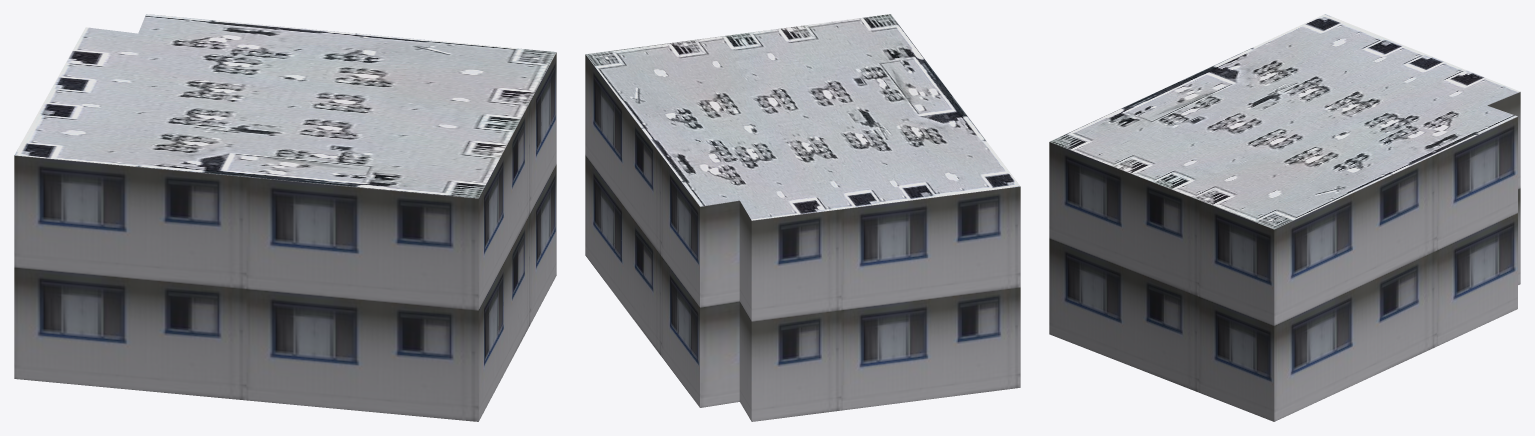
Rendered from ResTex__1649.fbx.
3 views of the same model, side by side, from view 1: azimuth 30°, elevation 25°; view 2: azimuth 150°, elevation 25°; view 3: azimuth 270°, elevation 25° (orthographic). The views are drawn at different scales.
Visible parts, largest first — view 1: CityEngineMaterial_9_m, CityEngineMaterial_4_m; view 2: CityEngineMaterial_9_m, CityEngineMaterial_4_m; view 3: CityEngineMaterial_9_m, CityEngineMaterial_4_m.
Part boxes in pixels (<box>): CityEngineMaterial_9_m: <box>14,52,556,421</box>; CityEngineMaterial_4_m: <box>14,14,556,198</box>; CityEngineMaterial_9_m: <box>585,54,1020,421</box>; CityEngineMaterial_4_m: <box>586,14,1020,220</box>; CityEngineMaterial_9_m: <box>1049,92,1520,421</box>; CityEngineMaterial_4_m: <box>1049,14,1520,229</box>.
Bounding box in the file's own units: 14.4 × 6 × 13.32.
Materials: 2 (2 with a texture image).
